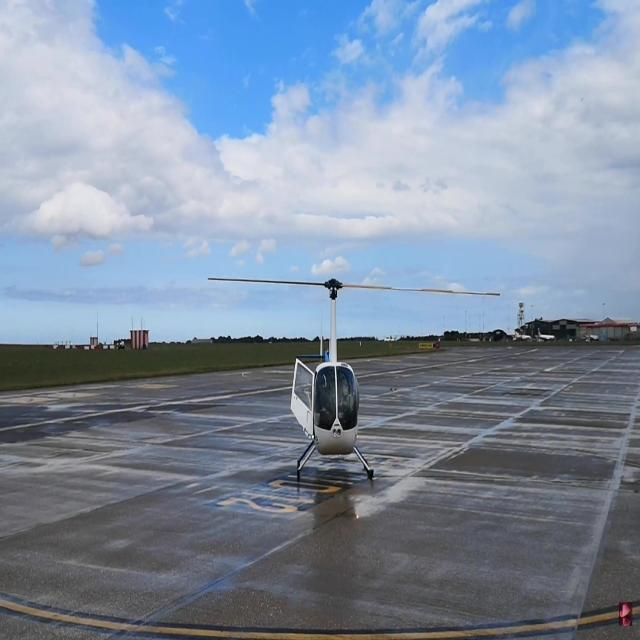CIV_HELO: (290, 278, 376, 482)
